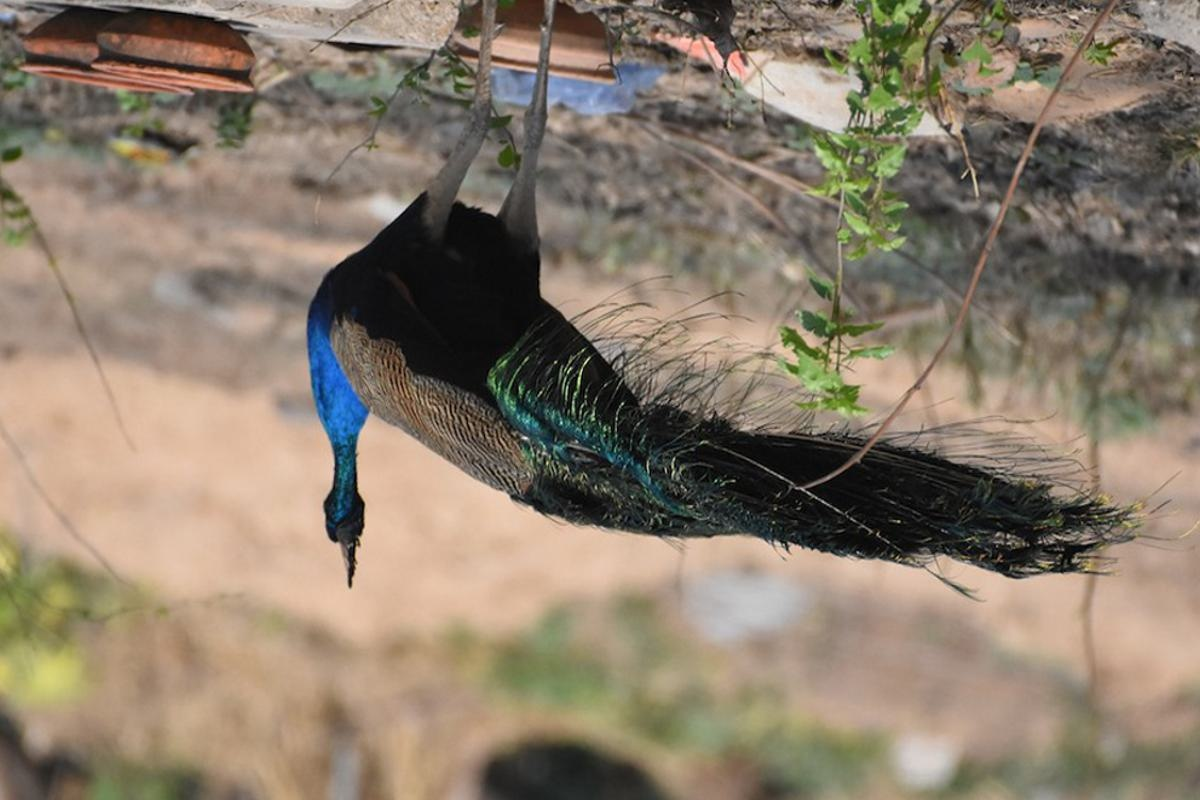peacock: (264, 191, 1144, 598)
